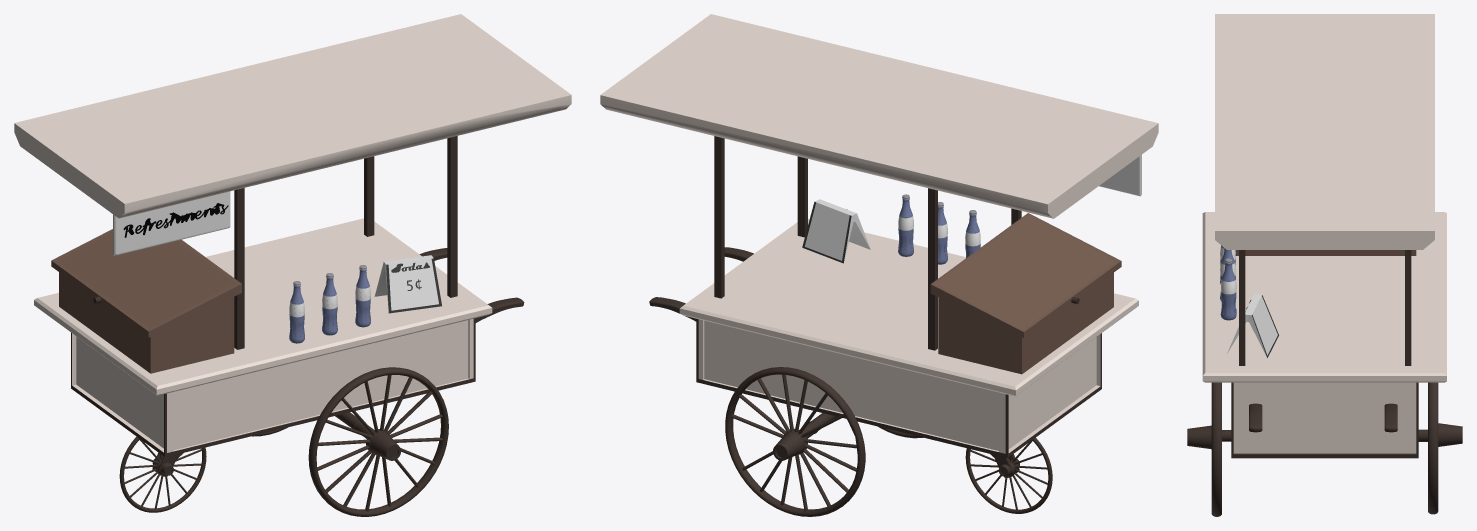
File: AW_FoodCart16_DF.fbx
3 renders of one model, left to right at view 1: azimuth 30°, elevation 25°; view 2: azimuth 150°, elevation 25°; view 3: azimuth 270°, elevation 25°, orthographic.
Visible parts, largest first — view 1: polySurface33; view 2: polySurface33; view 3: polySurface33.
Boxes of the visible parts, box(x1,y1,x2,y2) form: polySurface33: box(14, 14, 571, 516); polySurface33: box(600, 14, 1158, 516); polySurface33: box(1187, 14, 1462, 516).
Bounding box in the file's own units: 2.81 × 2.25 × 1.51.
